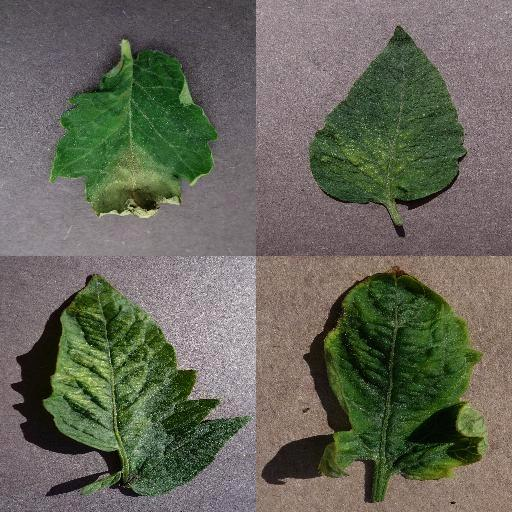Late Blight: (48, 46, 218, 220)
Spider Mites: (43, 274, 251, 498), (309, 23, 467, 203)
Yellow Leaf Curl Virus: (321, 268, 487, 482)
